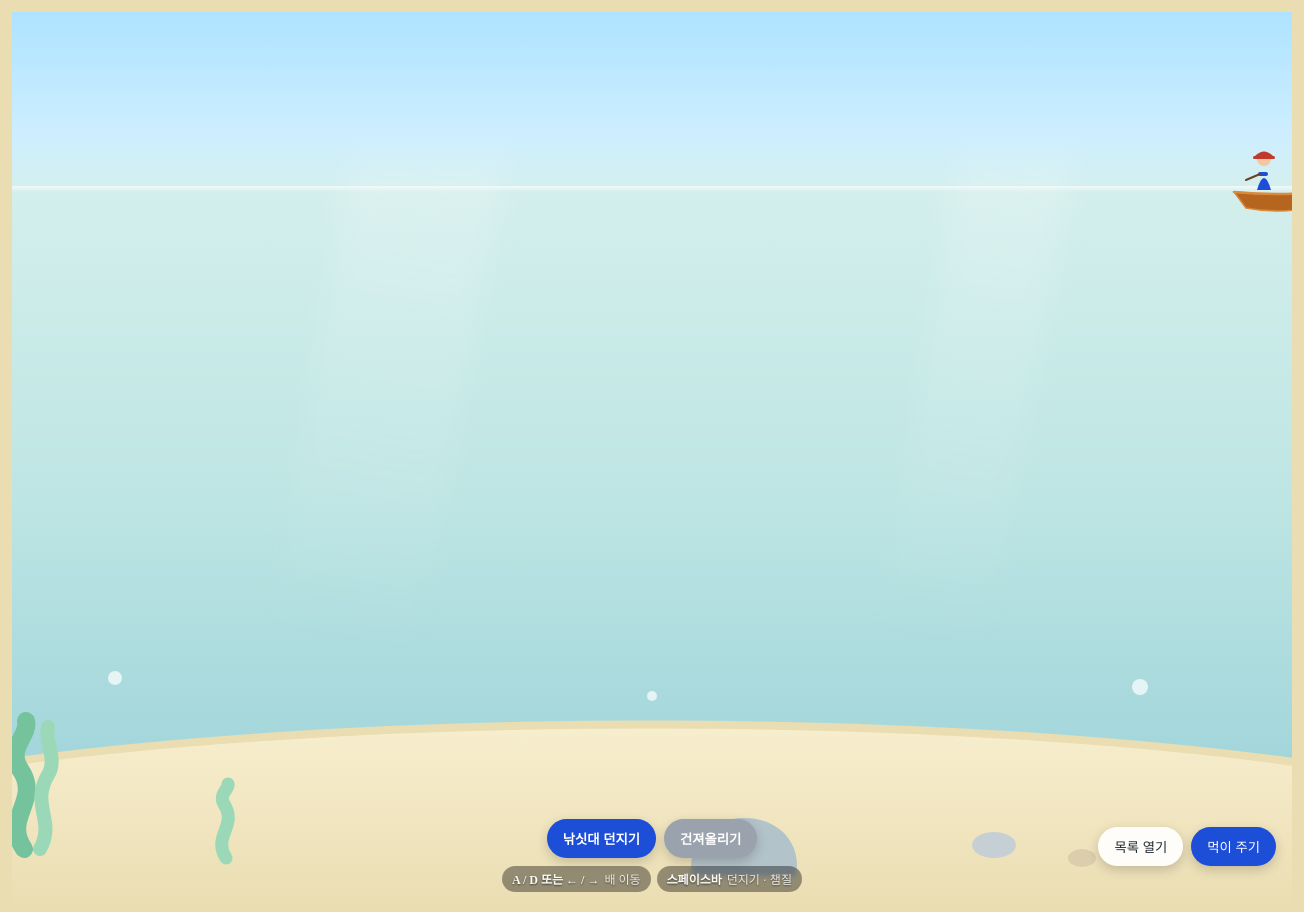
Test case: FishTank 낚시 미니게임 (SPEC-CATCH-001) › 낚싯대 던지기 버튼을 누르면 찌를 던지고 안내한다 — 던지기는 비활성, 건져올리기는 아직 비활성
This screenshot has width=1304, height=912.
Expected: the button "건져올리기" is disabled, x1=664 y1=819 x2=757 y2=858
Click the button "낚싯대 던지기" at x=601, y=838, box x1=547 y1=819 x2=656 y2=858
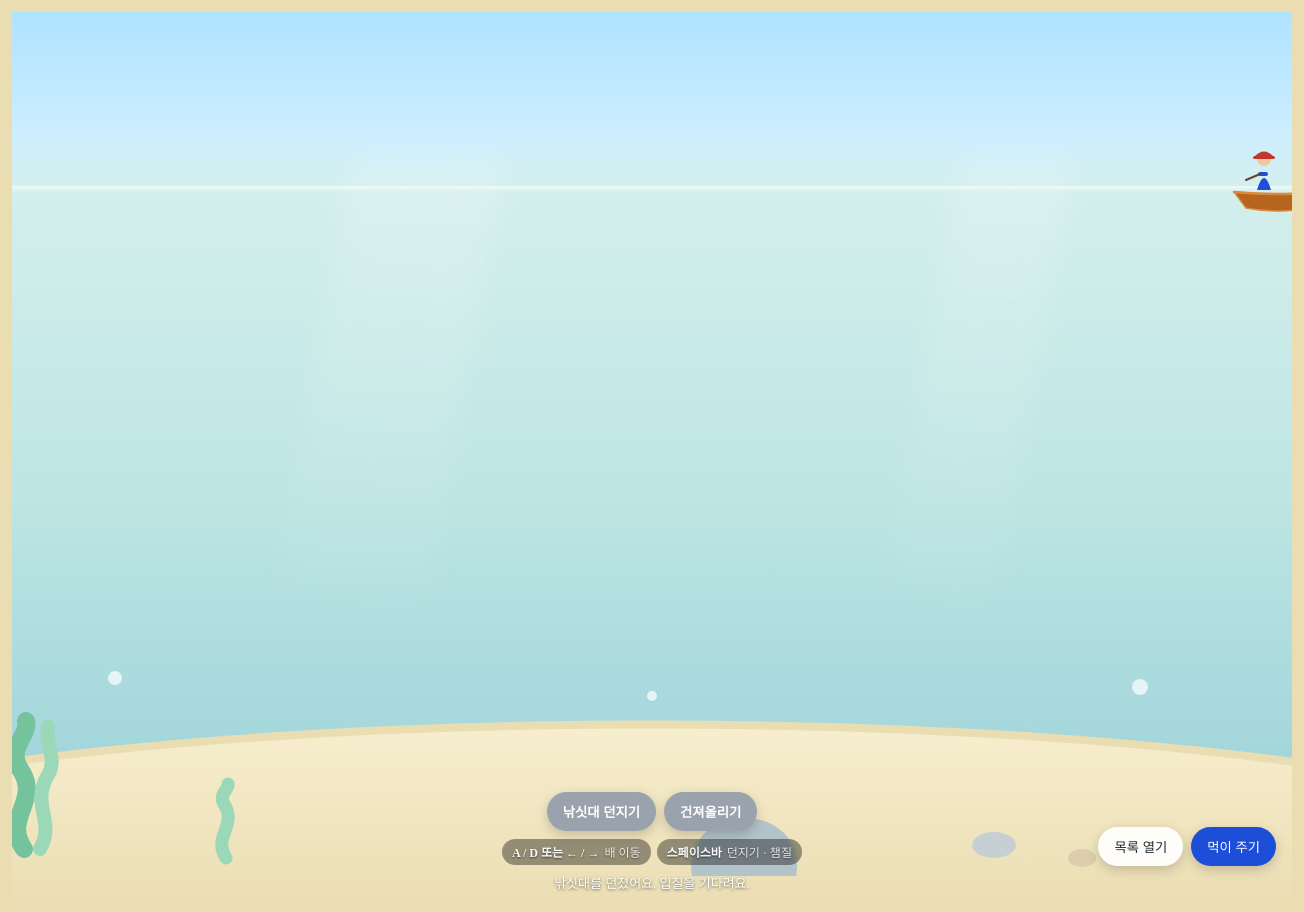
Expected: the button "건져올리기" is disabled, x1=664 y1=792 x2=757 y2=831
Expected: the button "낚싯대 던지기" is disabled, x1=547 y1=792 x2=656 y2=831
Expected: the message named "낚시 안내" shows "낚싯대를 던졌어요", x1=554 y1=876 x2=750 y2=891
